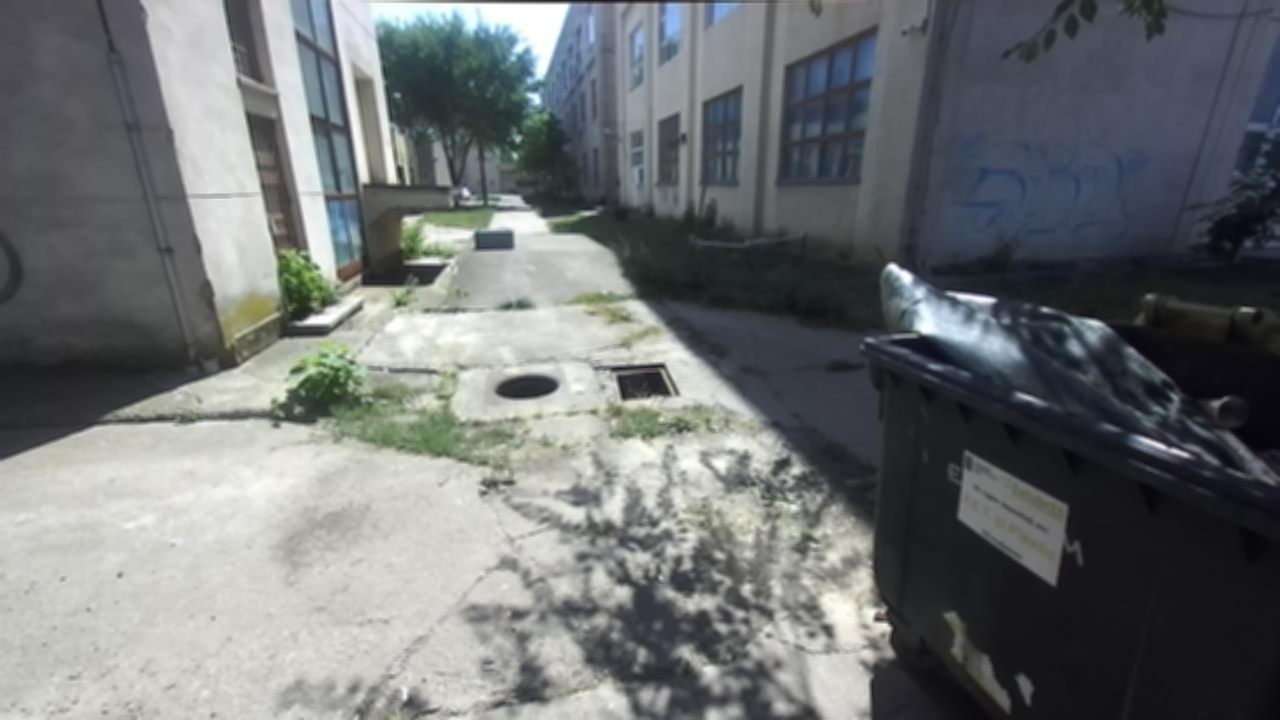drain: (599, 366, 682, 397), (488, 371, 573, 399)
